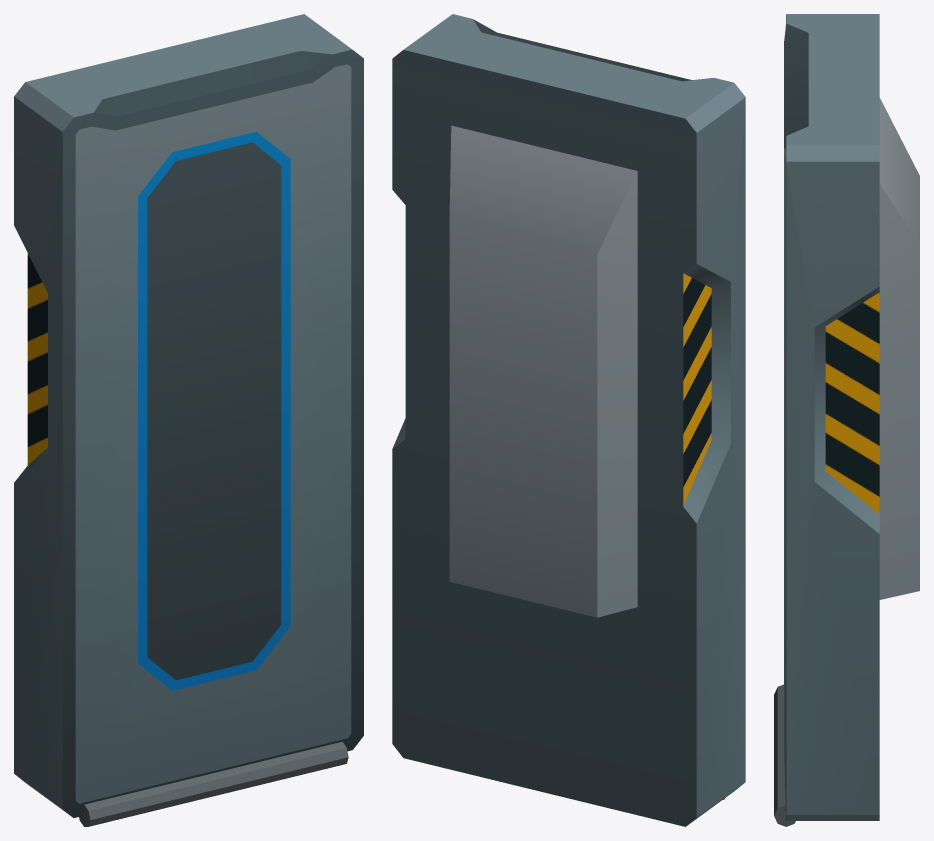
The model's file is Capsule_003_body_001.fbx.
3 renders of one model, left to right at view 1: azimuth 30°, elevation 25°; view 2: azimuth 150°, elevation 25°; view 3: azimuth 270°, elevation 25°, orthographic. The views are drawn at different scales.
Visible parts, largest first — view 1: Сapsule_003_body_001; view 2: Сapsule_003_body_001; view 3: Сapsule_003_body_001.
Boxes of the visible parts, left/top/right/bottom form: Сapsule_003_body_001: left=14, top=14, right=363, bottom=826; Сapsule_003_body_001: left=392, top=14, right=745, bottom=826; Сapsule_003_body_001: left=774, top=14, right=919, bottom=826.
Size of the model in its own units: 89.99 by 39.09 by 203.
